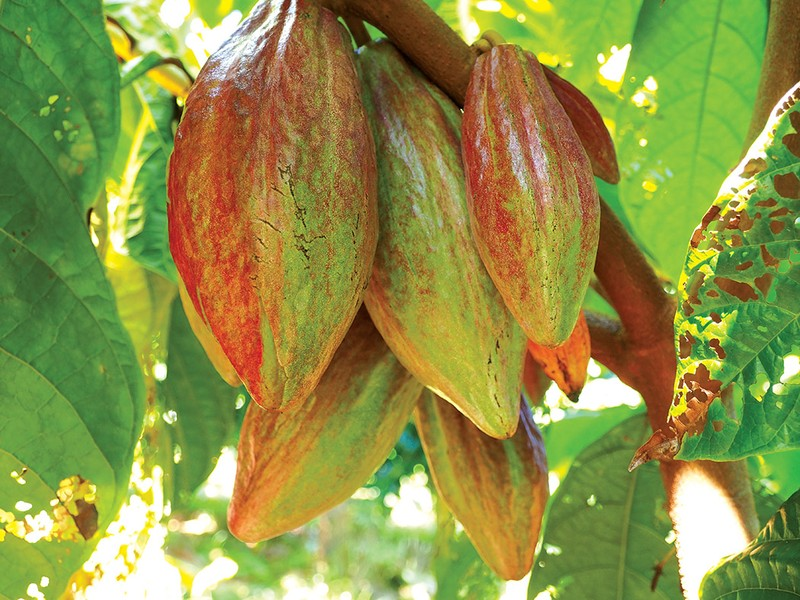Cacaopod: (166, 1, 383, 413), (460, 44, 600, 351)
